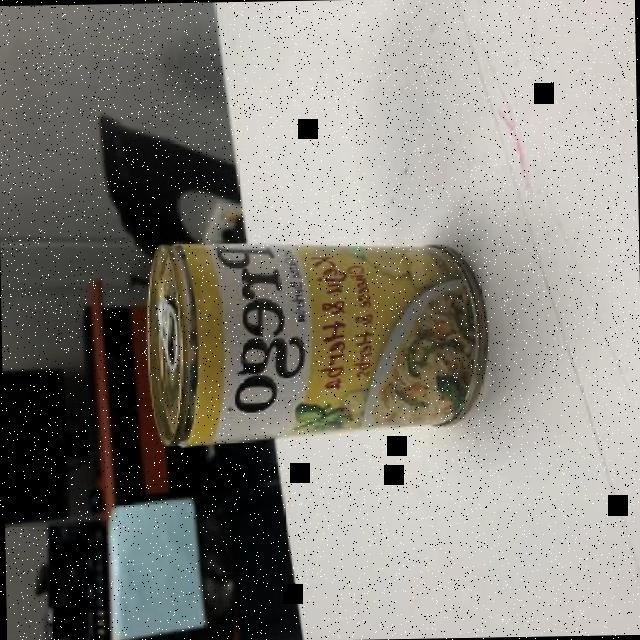can: (142, 238, 484, 448)
